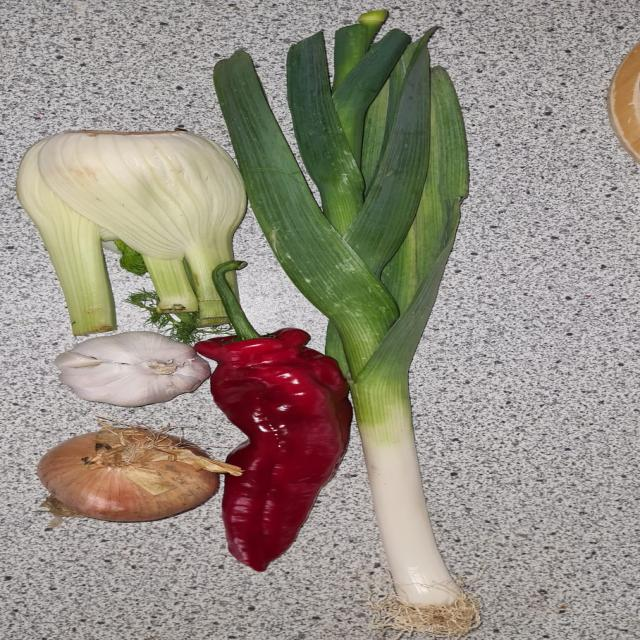fennel: (19, 128, 268, 338)
garlic: (58, 331, 207, 408)
leek: (208, 9, 488, 636)
onion: (36, 427, 240, 524)
pepper: (209, 260, 364, 571)
